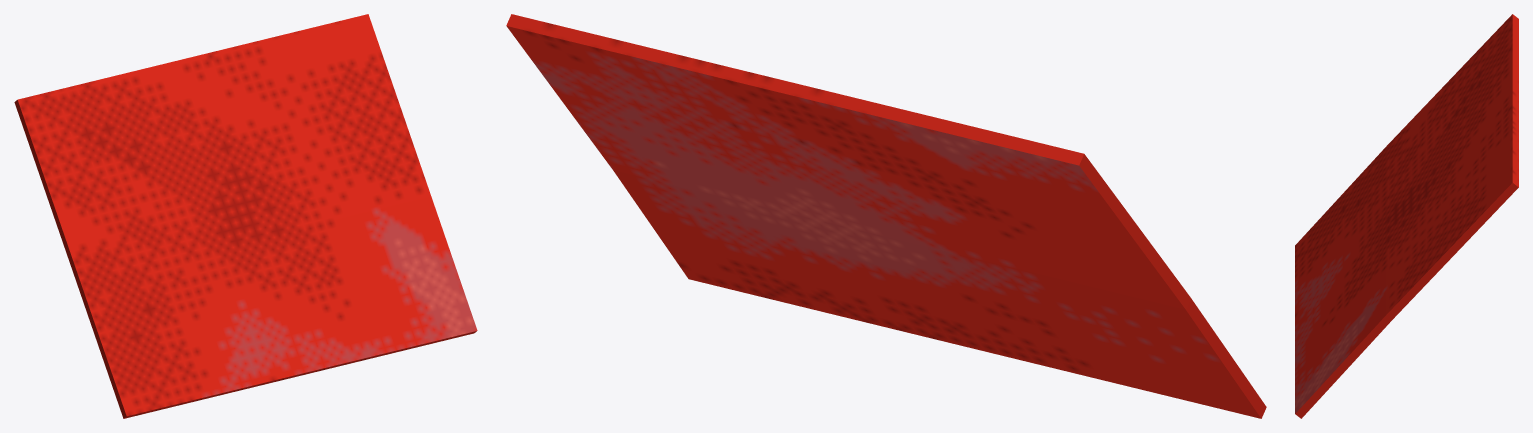
Rendered from jackinthebox_lid.fbx.
3 renders of one model, left to right at view 1: azimuth 30°, elevation 25°; view 2: azimuth 150°, elevation 25°; view 3: azimuth 270°, elevation 25°, orthographic. The views are drawn at different scales.
Parts seen in each view (by area): view 1: jackinthebox_lid.001; view 2: jackinthebox_lid.001; view 3: jackinthebox_lid.001.
Boxes of the visible parts, box(x1,y1,x2,y2) form: jackinthebox_lid.001: box(14, 14, 477, 418); jackinthebox_lid.001: box(506, 14, 1266, 418); jackinthebox_lid.001: box(1295, 14, 1518, 418).
Bounding box in the file's own units: 167 × 109 × 93.48.
